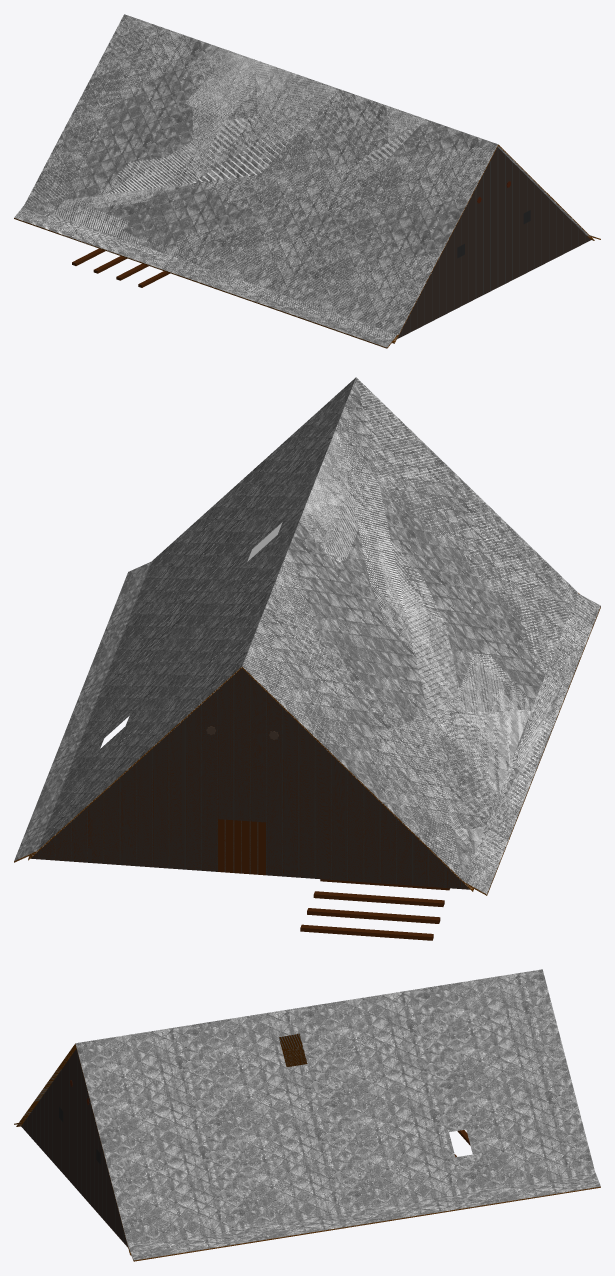
File: krytiny.dae
3 renders of one model, top to bottom at view 1: azimuth 30°, elevation 25°; view 2: azimuth 150°, elevation 25°; view 3: azimuth 270°, elevation 25°, orthographic. The views are drawn at different scales.
Visible parts, largest first — view 1: group_6 (×2), group_5 (×16); view 2: group_6 (×3), group_2 (×21), group_1, group_3, group_4; view 3: group_6 (×3), group_5 (×9).
Boxes of the visible parts, x1,y1,x2,y2 form: group_6 (×2): (14, 14, 600, 348); group_5 (×16): (439, 147, 556, 316); group_6 (×3): (14, 377, 600, 895); group_2 (×21): (88, 668, 411, 885); group_1: (300, 924, 433, 940); group_3: (307, 908, 440, 923); group_4: (313, 891, 444, 906); group_6 (×3): (17, 969, 600, 1261); group_5 (×9): (61, 1049, 98, 1212).
Bounding box in the file's own units: 794 × 937 × 360.
Materials: 12 (1 with a texture image).
